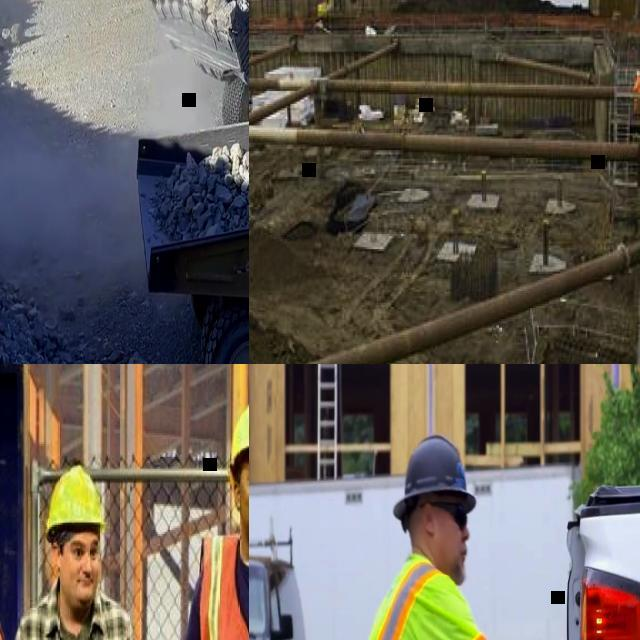Helmet: (371, 422, 491, 526), (36, 447, 110, 547), (219, 402, 249, 474)
Robbery: (327, 433, 551, 640), (26, 453, 138, 640), (176, 399, 250, 635)
